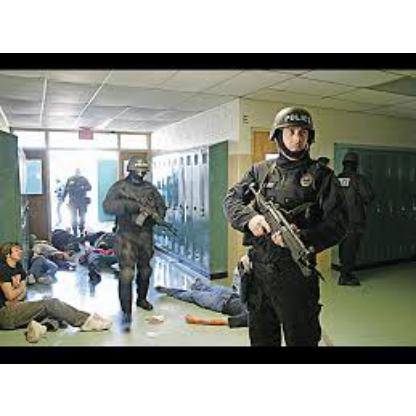gun: (240, 178, 320, 278), (118, 184, 180, 240)
